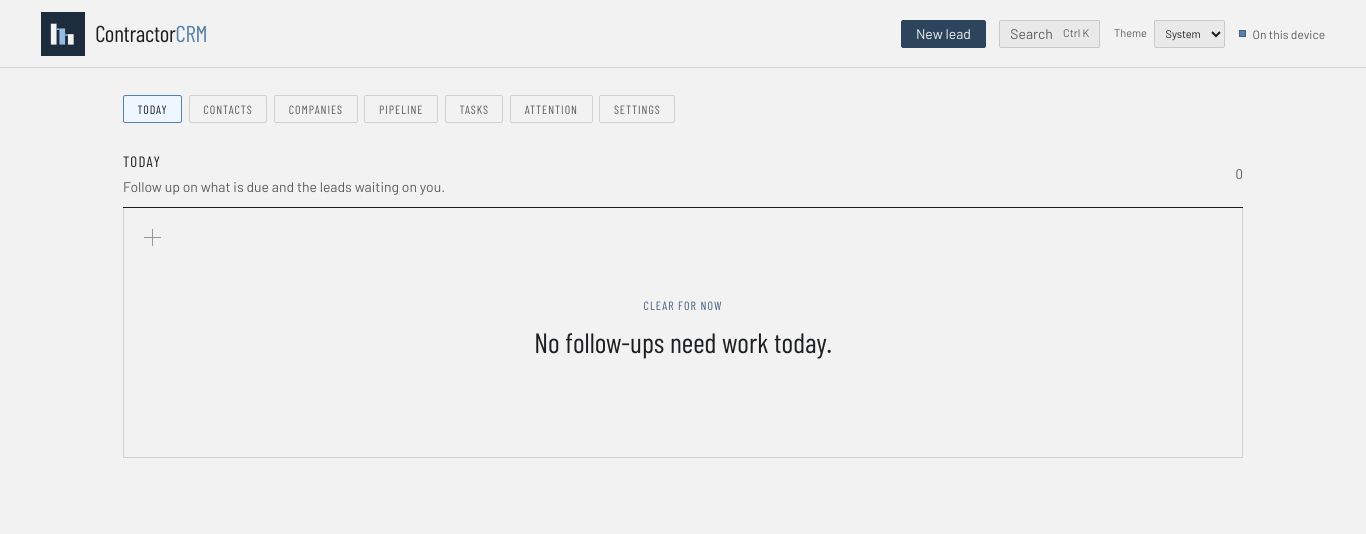
pipeline table › keeps saved list definitions out of the read-only board mode
The image size is (1366, 534).
Click the button "Pipeline": (401, 109) [364,95,438,123]
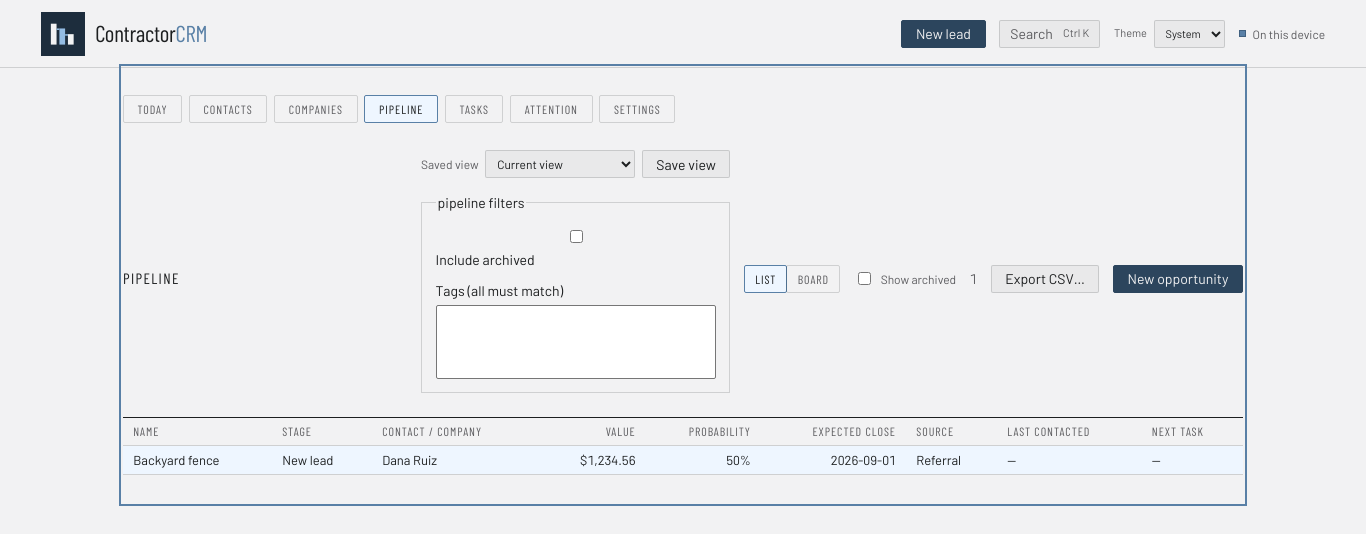
Select "Largest opportunities" in the dropdown named "Saved pipeline view": (560, 164) [485,150,635,178]
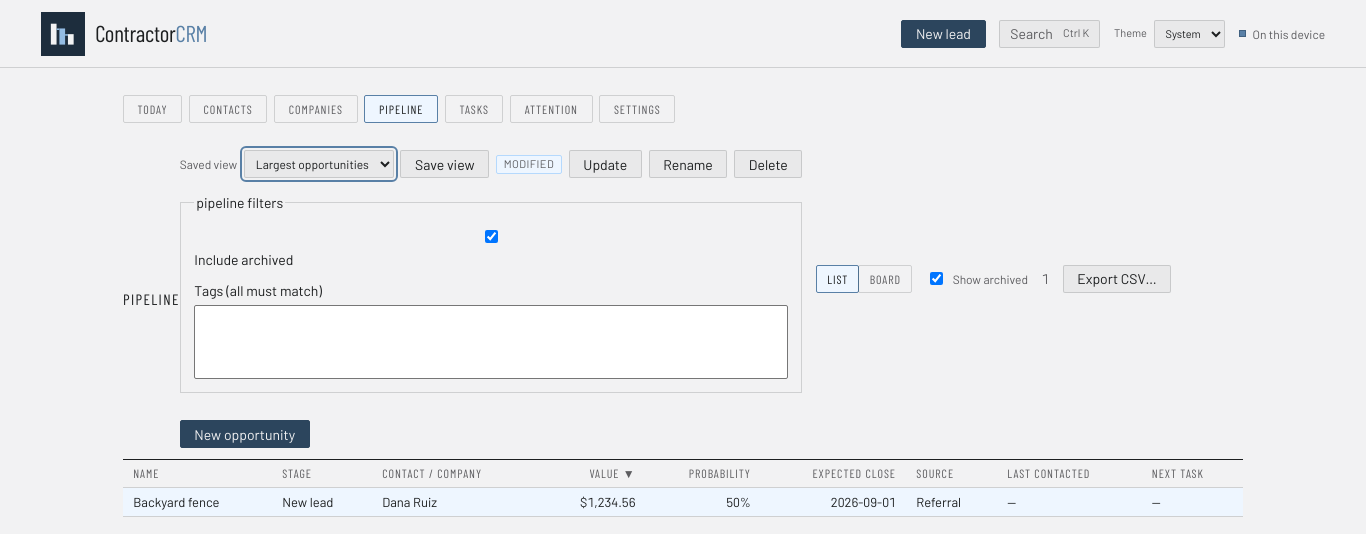
Click the button "Board": (885, 278) [858,264,912,292]
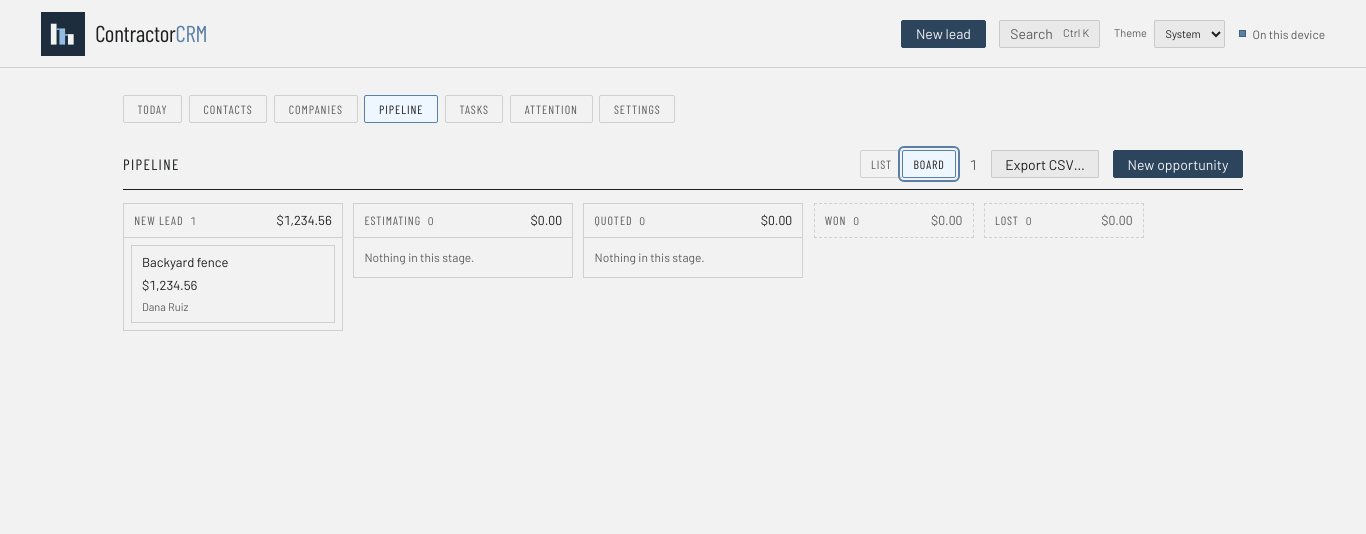
Result: the element named "Pipeline board" is shown at [123,203,1243,341]
Click the button "List": (882, 164) [860,150,903,178]
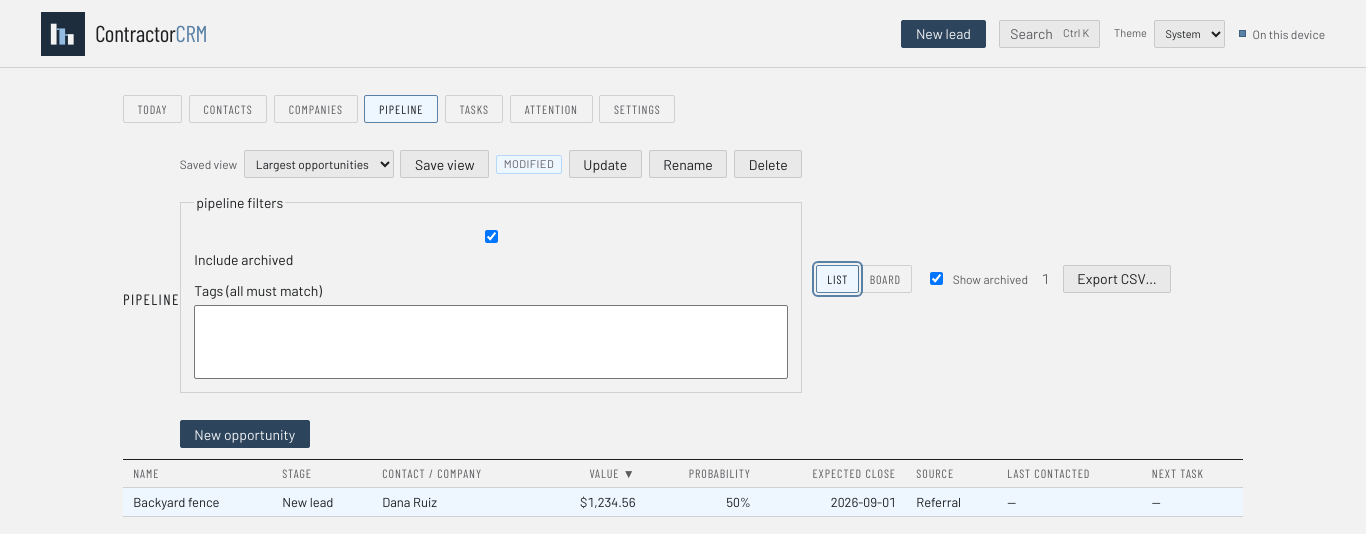
Result: the button "Update " is shown at [569,150,642,178]
